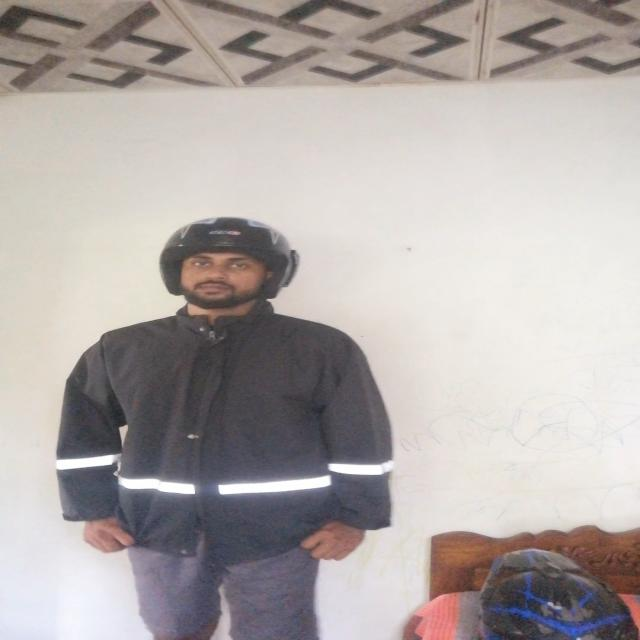Helmet_Wearer: (138, 218, 296, 320)
Jacket_Wearer: (56, 308, 398, 564)
Person: (53, 215, 381, 640)
